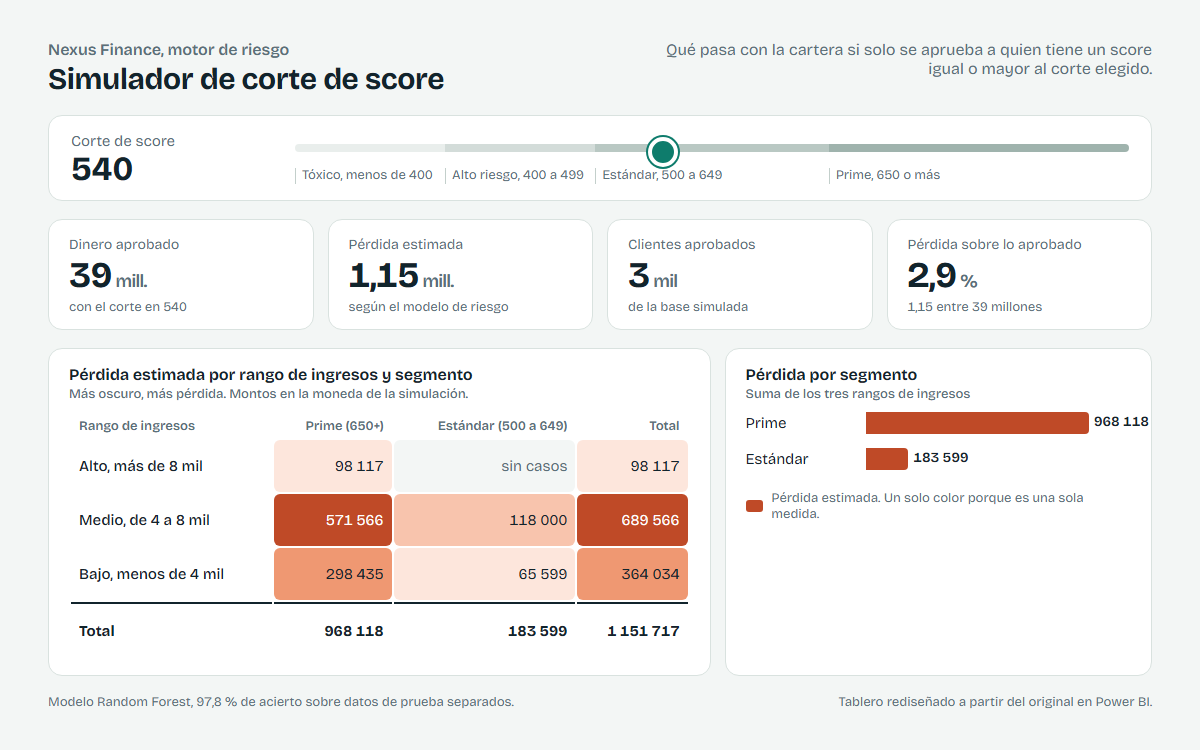

The dashboard page shown, as its layout file describes it:
{"tool":"powerbi","page":{"name":"Página 1","canvas":[1280,720],"ordinal":0},"visuals":[{"type":"slicer","fields":{"Values":["Simulador Corte Score.Simulador Corte Score"]},"box":[500,91.1,280,125.6],"z":0},{"type":"cardVisual","fields":{"Data":["nexus_bi_data.Clientes Aprobados (Simulacion)"]},"box":[818.9,303.3,401.1,294.4],"z":1000},{"type":"cardVisual","fields":{"Data":["nexus_bi_data.Dinero Aprobado (Simulacion)"]},"box":[78.9,6.7,360,294.4],"z":2000},{"type":"cardVisual","fields":{"Data":["nexus_bi_data.Pérdida Estimada (Riesgo)"]},"box":[839,6.6,359.6,294.7],"z":3000},{"type":"pivotTable","fields":{"Rows":["nexus_bi_data.Rango Ingresos"],"Columns":["nexus_bi_data.Rango Score"],"Values":["nexus_bi_data.Pérdida Estimada (Riesgo)"]},"box":[82.5,359.6,712.6,181.4],"z":4000}]}

Visuals, with their boxes on the page's 1280x720 design canvas (x1, y1, x2, y2). These are canvas units, not pixel positions in the 1200x750 screenshot, which may show the page scaled, cropped or inside an application window:
slicer - Simulador Corte Score.Simulador Corte Score: bbox=(500, 91, 780, 217)
cardVisual - nexus_bi_data.Clientes Aprobados (Simulacion): bbox=(819, 303, 1220, 598)
cardVisual - nexus_bi_data.Dinero Aprobado (Simulacion): bbox=(79, 7, 439, 301)
cardVisual - nexus_bi_data.Pérdida Estimada (Riesgo): bbox=(839, 7, 1199, 301)
pivotTable - nexus_bi_data.Rango Ingresos x nexus_bi_data.Rango Score: bbox=(82, 360, 795, 541)
